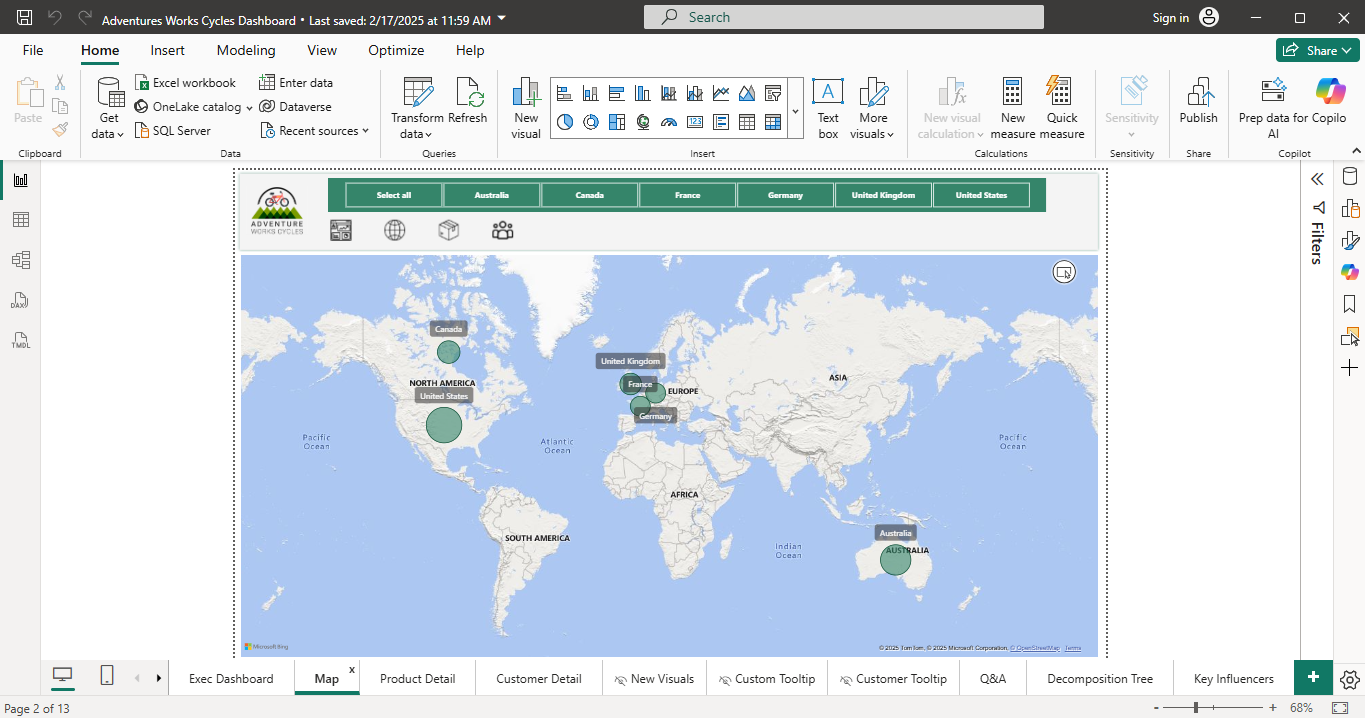

Layout of this report page (visuals, bound fields, positions):
{"tool":"powerbi","page":{"name":"Map","canvas":[1280,720],"ordinal":1},"visuals":[{"type":"shape","box":[3,1,1270,120],"z":0},{"type":"actionButton","box":[133,69,46.4,39],"z":0,"group":"g1"},{"type":"image","title":"Adventure Logo","box":[12,9,100,100],"z":1000},{"type":"actionButton","box":[212.2,69.2,46.7,38.5],"z":1000,"group":"g1"},{"type":"actionButton","box":[291.7,69.2,46.7,38.5],"z":2000,"group":"g1"},{"type":"map","fields":{"Category":["Dim SalesTerritory.SalesTerritoryCountry"],"Size":["Measures Table.Total Orders"]},"box":[4.4,120,1270.2,600],"z":2000},{"type":"slicer","fields":{"Values":["Dim SalesTerritory.SalesTerritoryCountry"]},"box":[137,12,1056,50],"z":3000},{"type":"actionButton","box":[371.3,69.2,46.7,38.5],"z":3000,"group":"g1"},{"type":"group","id":"g1","title":"Group 1","box":[133,69,285,39],"z":4000}]}

Visuals, with their boxes on the page's 1280x720 design canvas (x1, y1, x2, y2). These are canvas units, not pixel positions in the 1365x718 screenshot, which may show the page scaled, cropped or inside an application window:
shape: [3,1,1273,121]
actionButton: [133,69,179,108]
"Adventure Logo" image: [12,9,112,109]
actionButton: [212,69,259,108]
actionButton: [292,69,338,108]
map - Dim SalesTerritory.SalesTerritoryCountry x Measures Table.Total Orders: [4,120,1275,720]
slicer - Dim SalesTerritory.SalesTerritoryCountry: [137,12,1193,62]
actionButton: [371,69,418,108]
"Group 1" group: [133,69,418,108]
